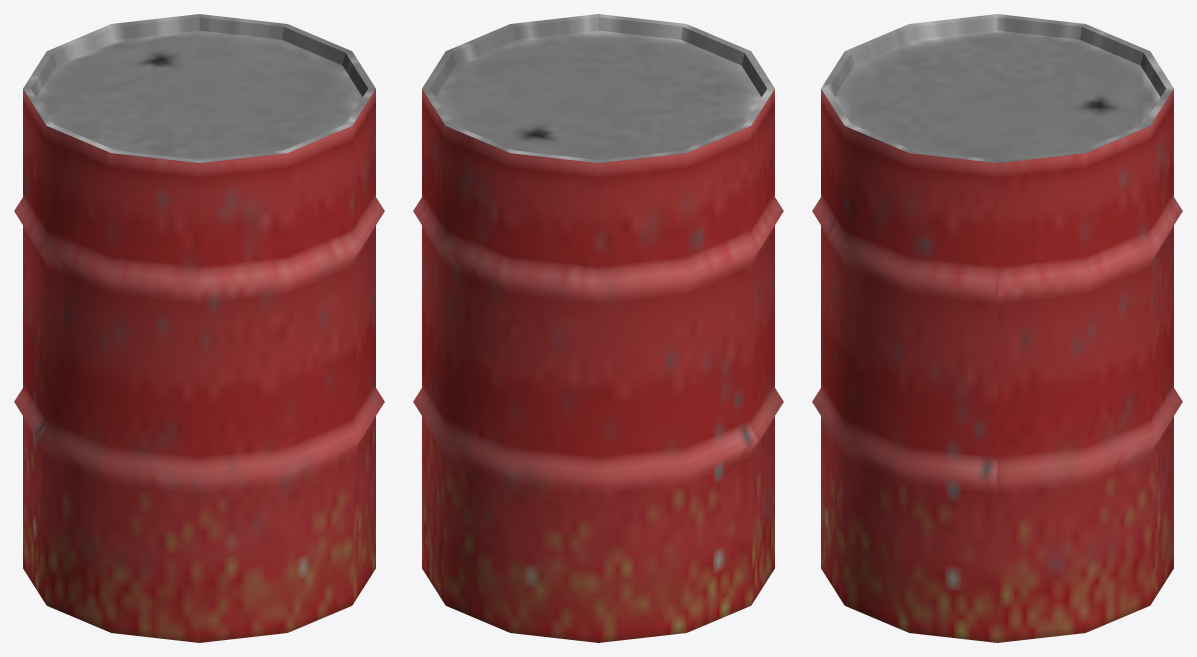
Rendered from SM_ExplosionBarrel.fbx.
3 renders of one model, left to right at view 1: azimuth 30°, elevation 25°; view 2: azimuth 150°, elevation 25°; view 3: azimuth 270°, elevation 25°, orthographic.
Parts seen in each view (by area): view 1: SM_ExplosionBarrel; view 2: SM_ExplosionBarrel; view 3: SM_ExplosionBarrel.
Part boxes in pixels (x1,y1,x2,y2): SM_ExplosionBarrel: (14,14,384,642); SM_ExplosionBarrel: (413,14,783,642); SM_ExplosionBarrel: (812,14,1182,642).
Bounding box in the file's own units: 1.05 × 1.5 × 1.05.
